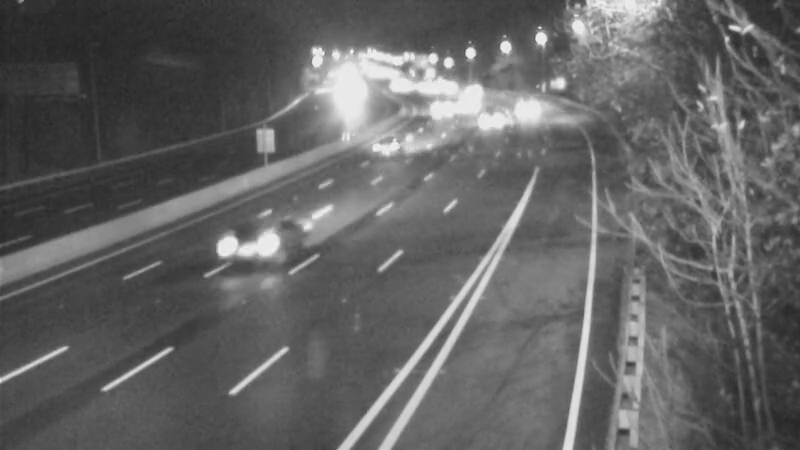vehicle: (203, 206, 283, 286), (441, 81, 491, 131), (502, 84, 552, 134), (416, 82, 466, 132), (466, 94, 516, 144), (355, 121, 405, 171)
